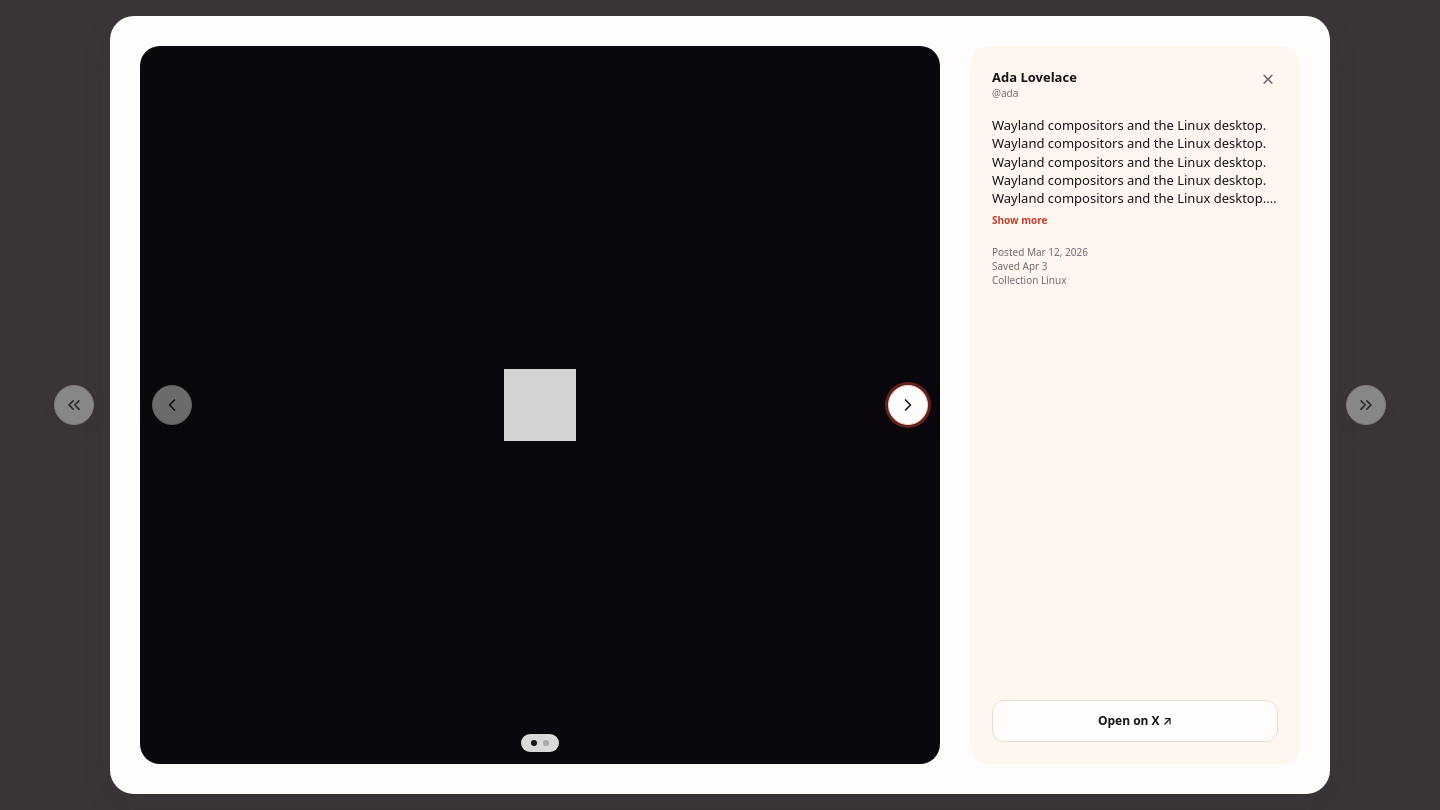
Test: MediaLightbox — clamp and broken media (LIGHT-01) › clamps long post text with a working Show more
This screenshot has width=1440, height=810.
What coordinates should you click on to do the following:
click the button with test id "post-text-toggle"
I would click on:
 (1020, 220)
Its box is [992,213,1048,227].
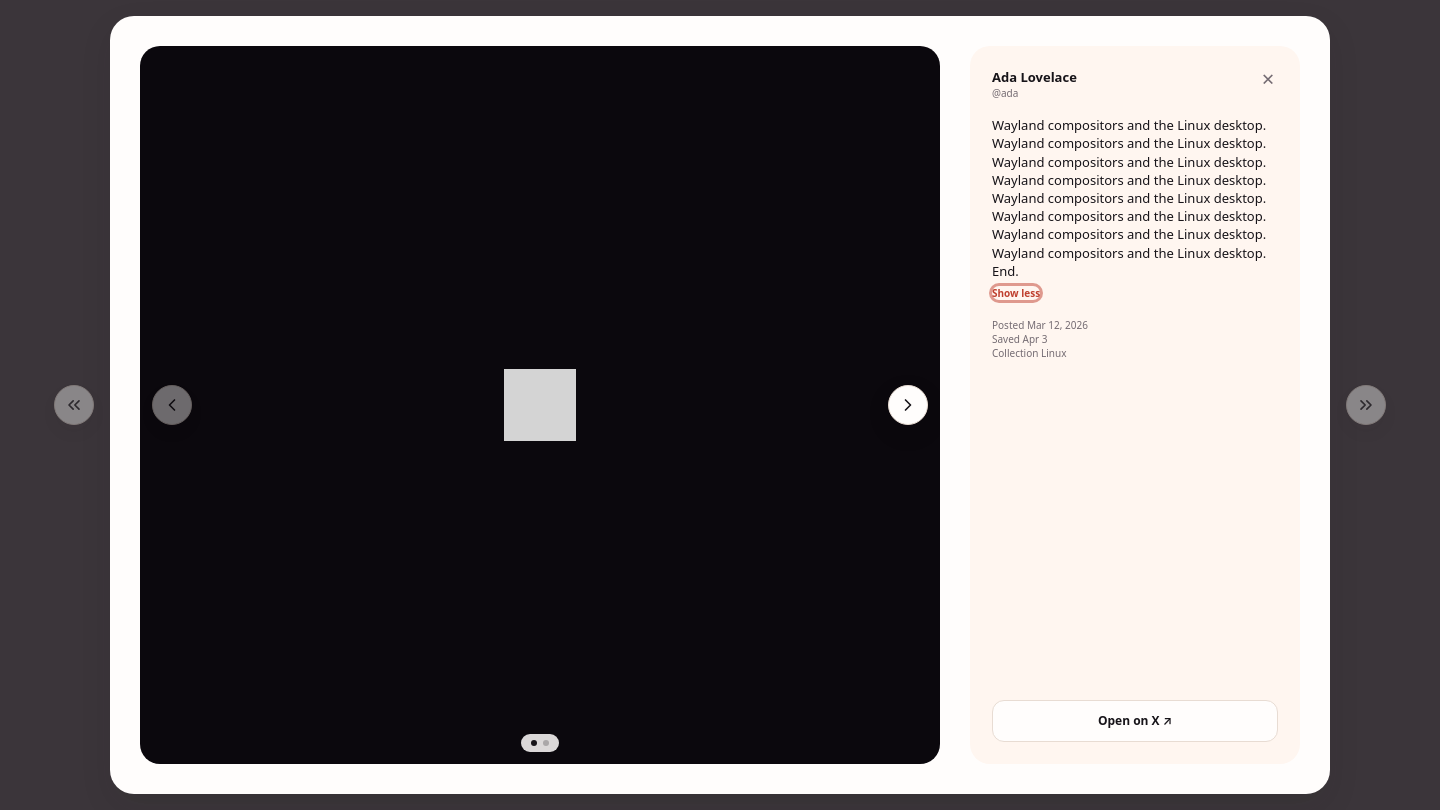
Check: the button with test id "post-text-toggle" reads "Show less", box [992,286,1040,300]
